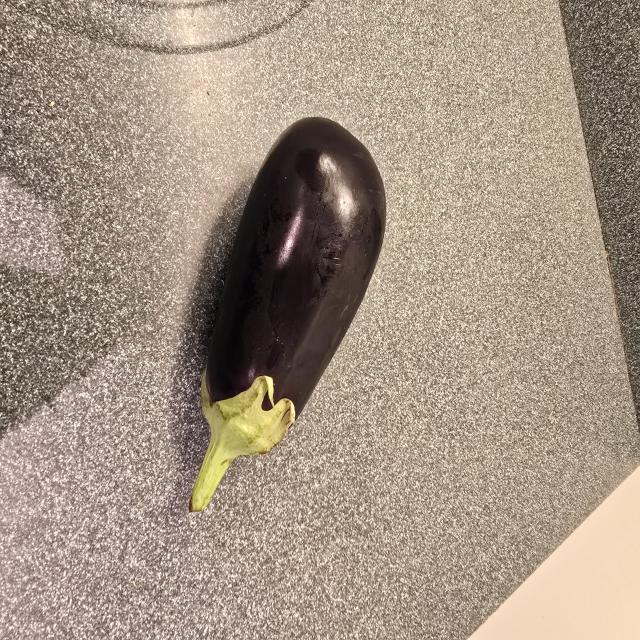Eggplant: (180, 103, 396, 532)
